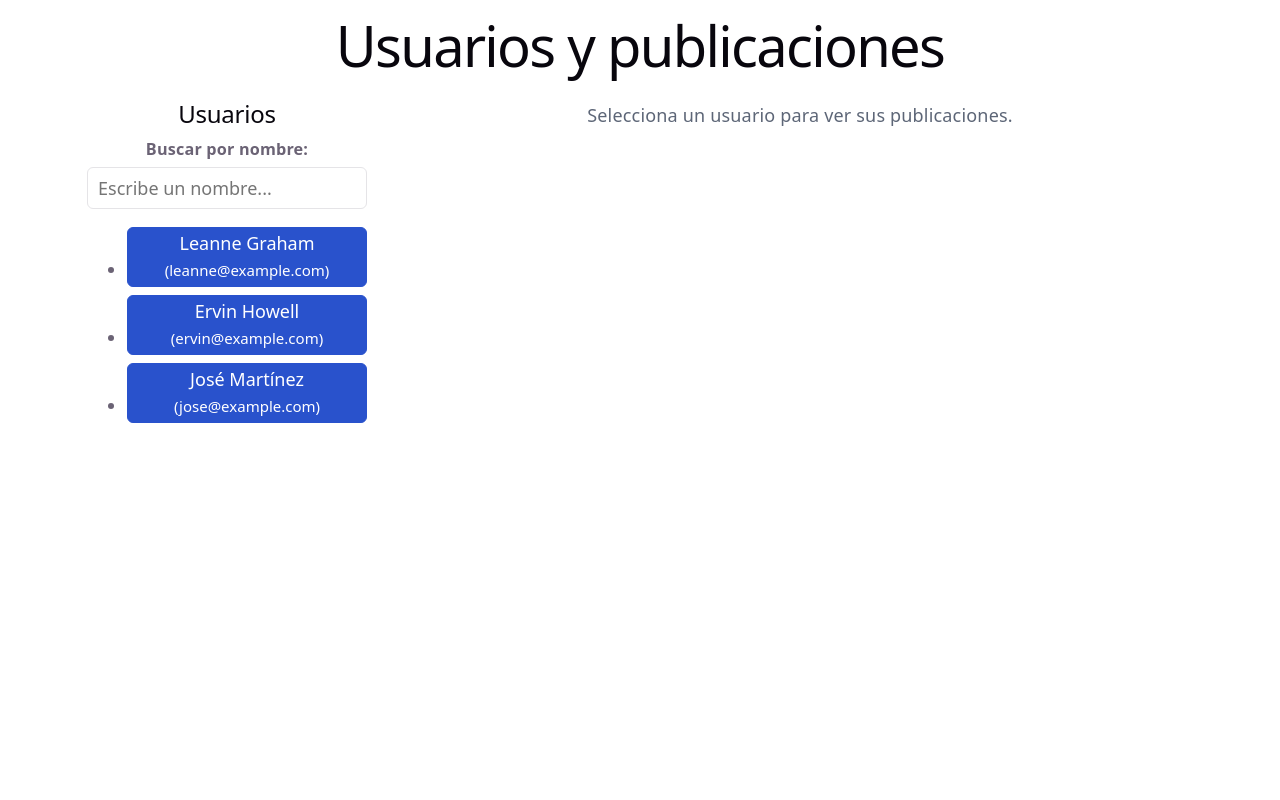
it: Publicaciones de un usuario › no envía el formulario si faltan el título o el texto
Click the button "Leanne Graham (leanne@example.com)".
click(247, 257)  # box [127,226,367,287]
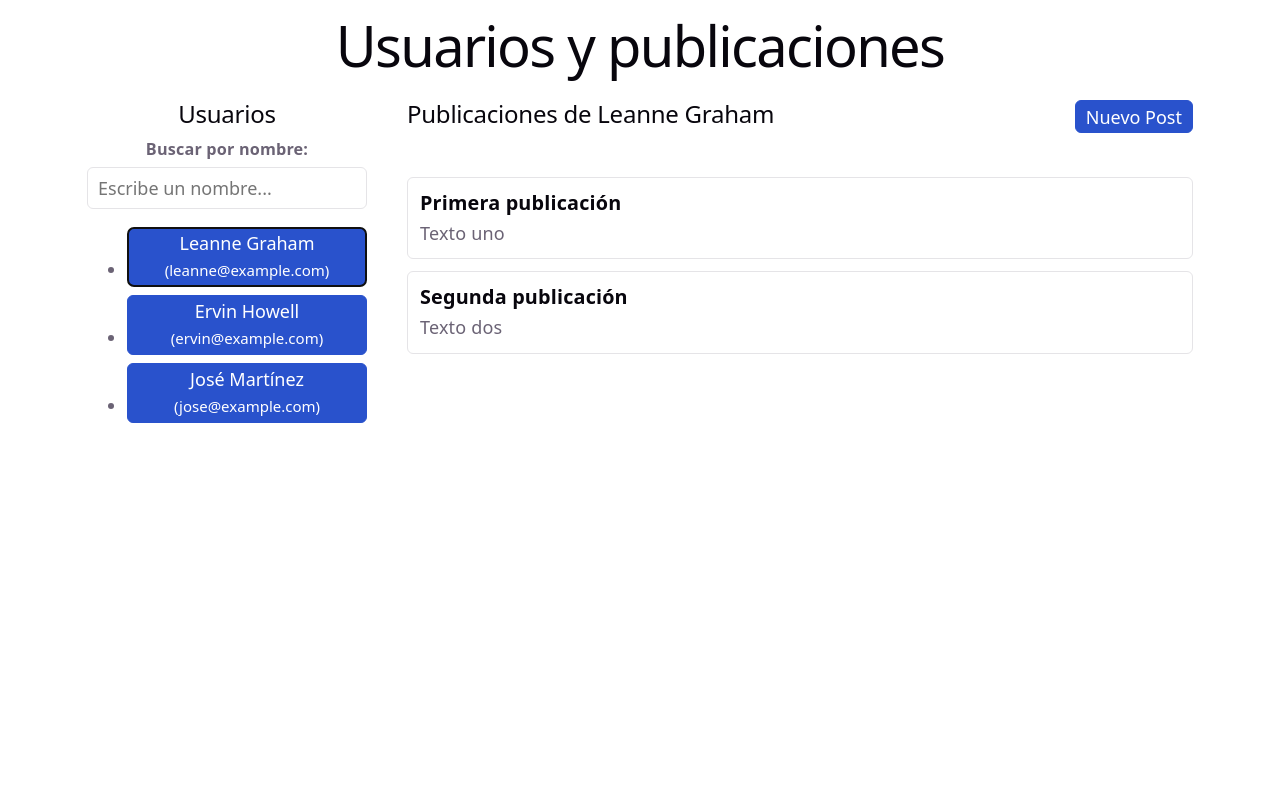
Click the button "Nuevo Post".
click(1134, 117)  # box [1075,100,1193,133]
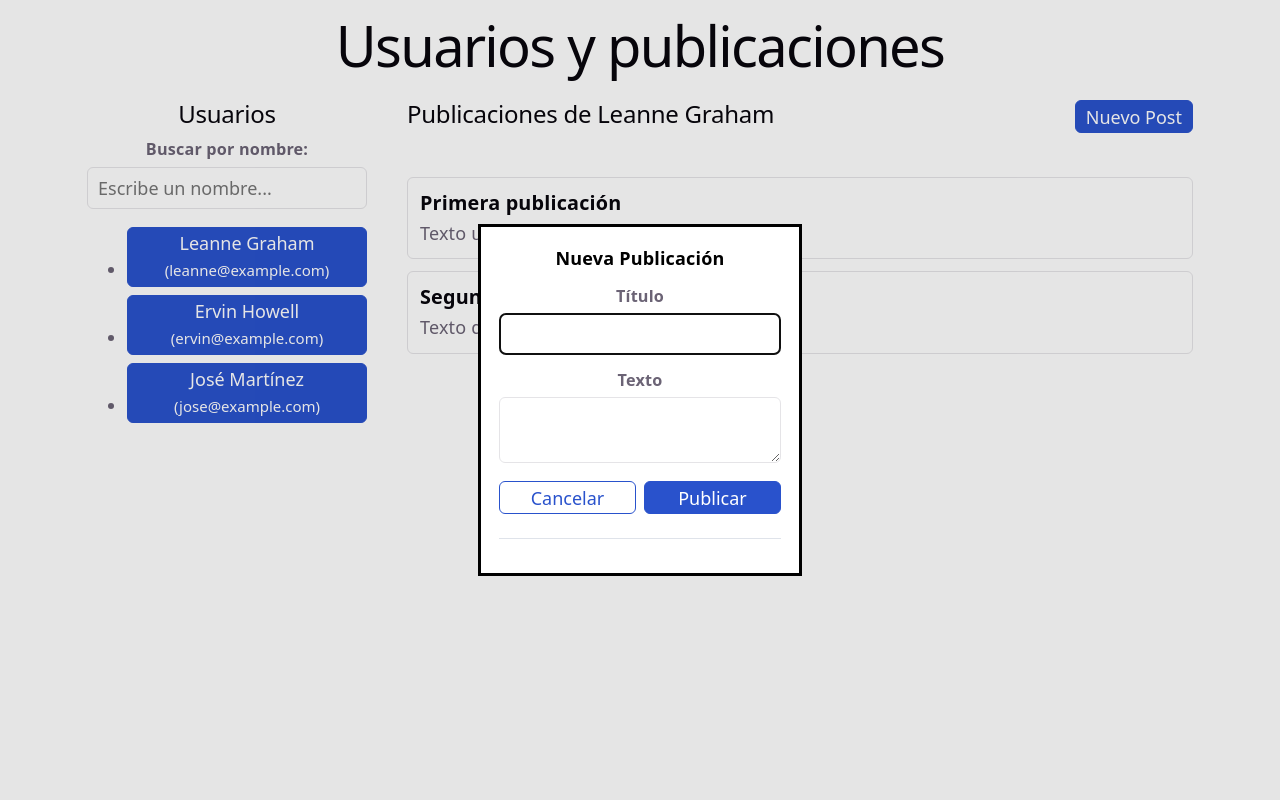
Click the button "Publicar".
click(712, 498)  # box [644,481,781,514]
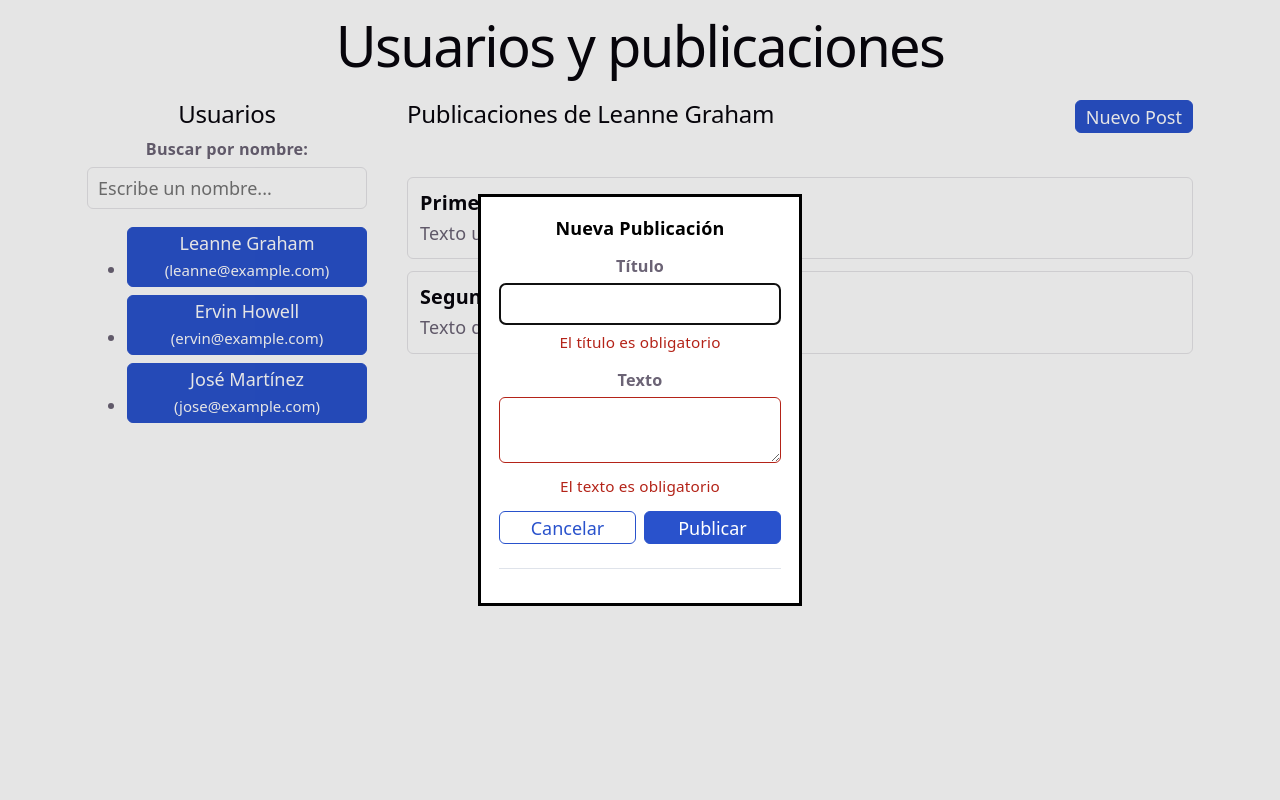
Expected: the text "El título es obligatorio" is shown, [559,332,721,352]
Expected: the text "El texto es obligatorio" is shown, [560,476,720,496]
